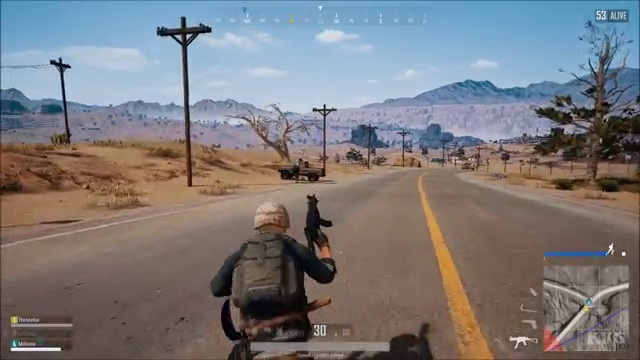Player: (178, 194, 364, 318)
